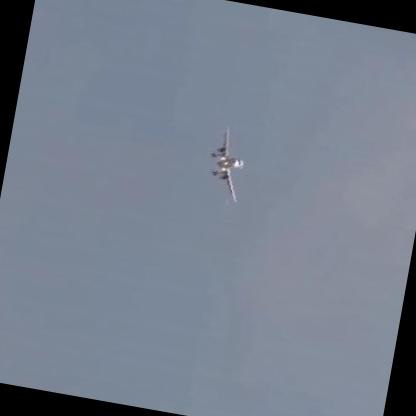plane: (198, 122, 252, 208)
